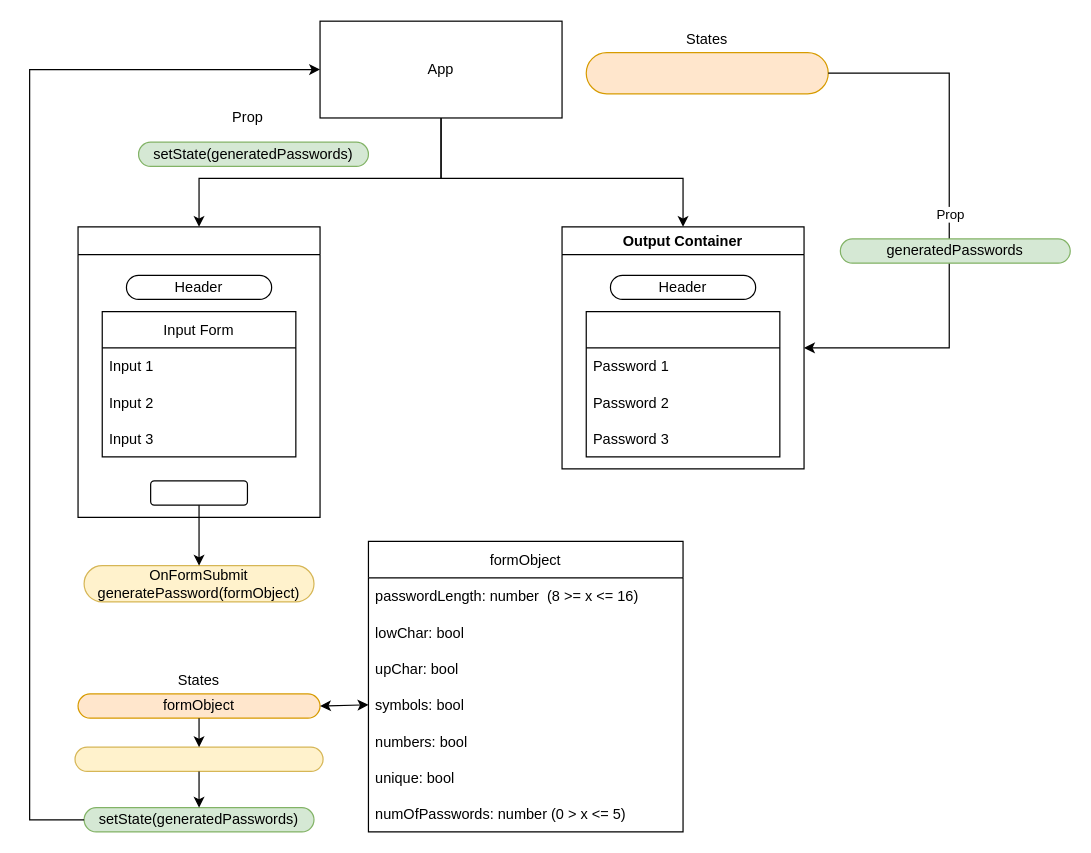
Image size: 1091x853. Some labels were removed from this diagram. The shapes that lost their labels are listed below. From the top down, each one's box as (x1, y1, x2, y2) in pixels, then its label:
(585, 51, 828, 94): generatedPasswords (Array of strings)
(77, 226, 320, 517): Input Container
(585, 310, 780, 457): Passwords
(149, 480, 247, 505): Submit
(74, 746, 323, 771): Func: generatePassword(formObject)
